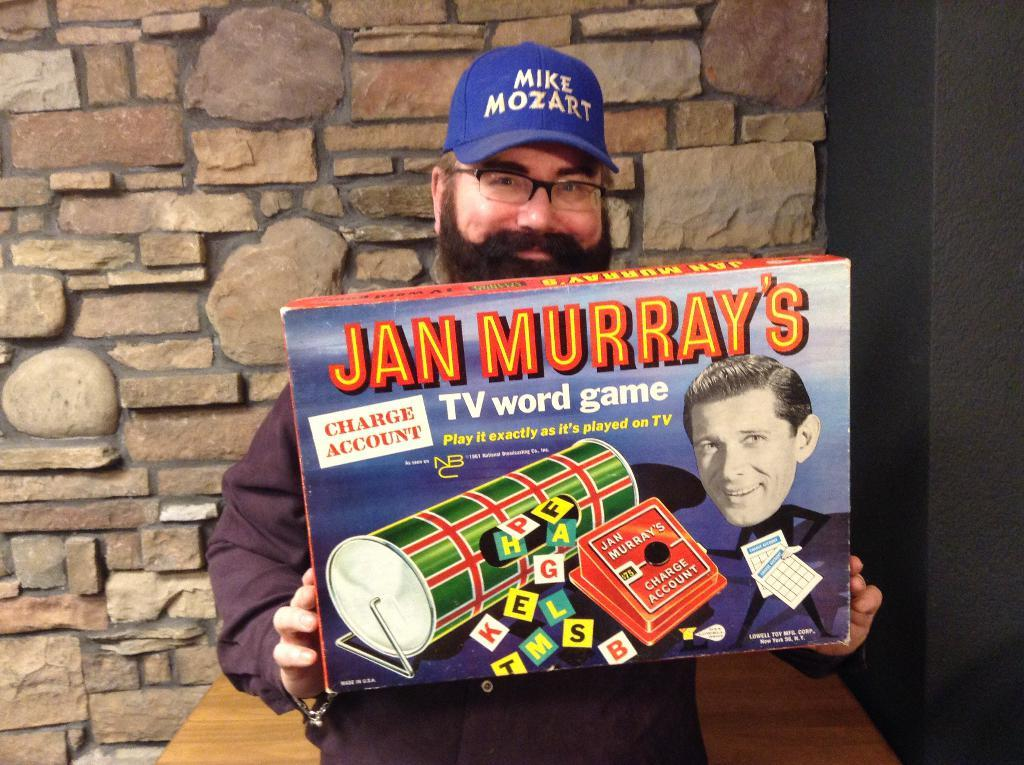Hat: (440, 41, 616, 175)
